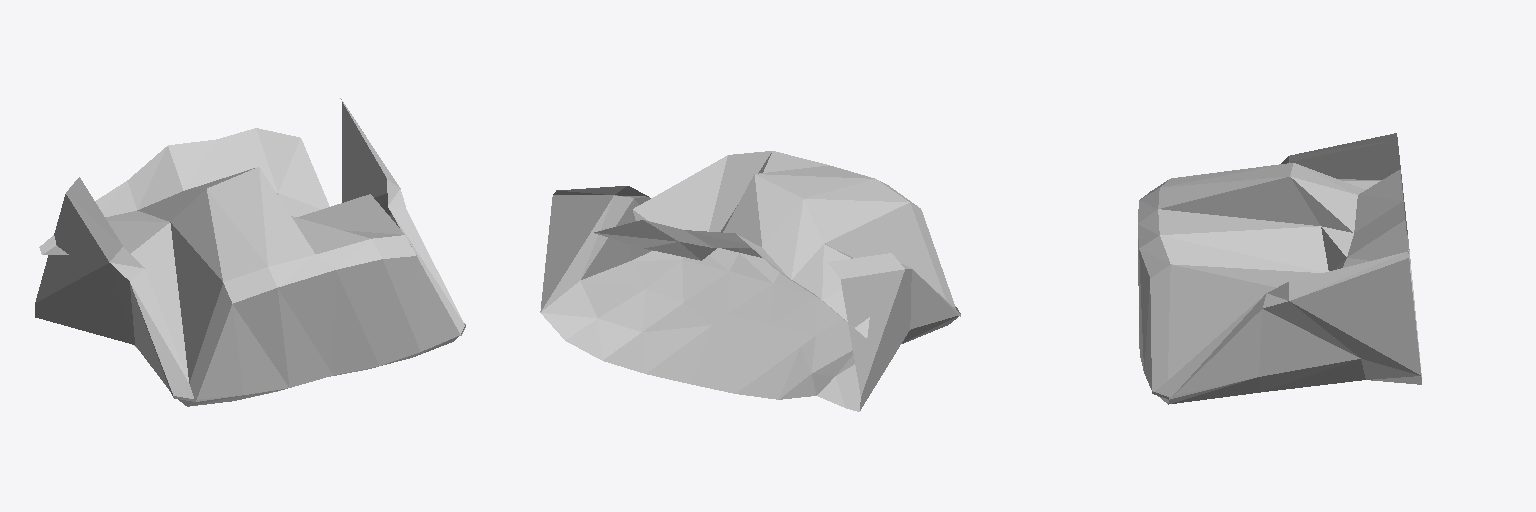
The model's file is vragfifth2.obj.
The picture shows the model from 3 angles: view 1: azimuth 30°, elevation 25°; view 2: azimuth 150°, elevation 25°; view 3: azimuth 270°, elevation 25°; orthographic projection.
Visible parts, largest first — view 1: vrag.001; view 2: vrag.001; view 3: vrag.001.
Boxes of the visible parts, box(x1,y1,x2,y2) form: vrag.001: box(35, 98, 465, 406); vrag.001: box(540, 151, 960, 411); vrag.001: box(1138, 133, 1421, 404).
Size of the model in its own units: 3.5 by 1.78 by 2.75.